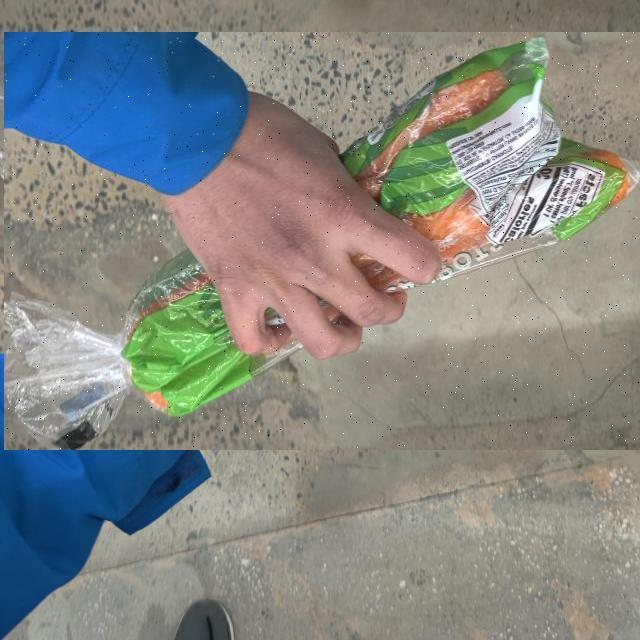Carrot: (4, 32, 640, 450)
